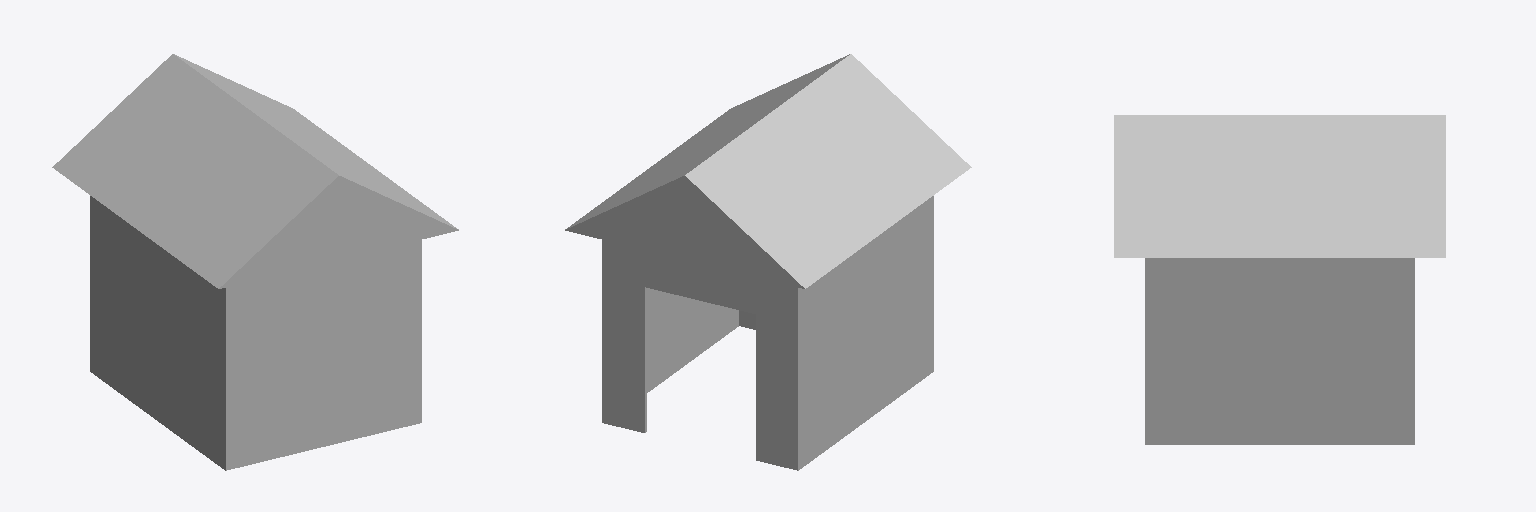
The model's file is shed.obj.
The picture shows the model from 3 angles: view 1: azimuth 30°, elevation 25°; view 2: azimuth 150°, elevation 25°; view 3: azimuth 270°, elevation 25°; orthographic projection.
Parts seen in each view (by area): view 1: Cube.012; view 2: Cube.012; view 3: Cube.012.
Boxes of the visible parts, box(x1,y1,x2,y2) form: Cube.012: box(52, 54, 458, 470); Cube.012: box(565, 54, 971, 470); Cube.012: box(1114, 115, 1445, 444).
Bounding box in the file's own units: 8.96 × 10.04 × 10.7.